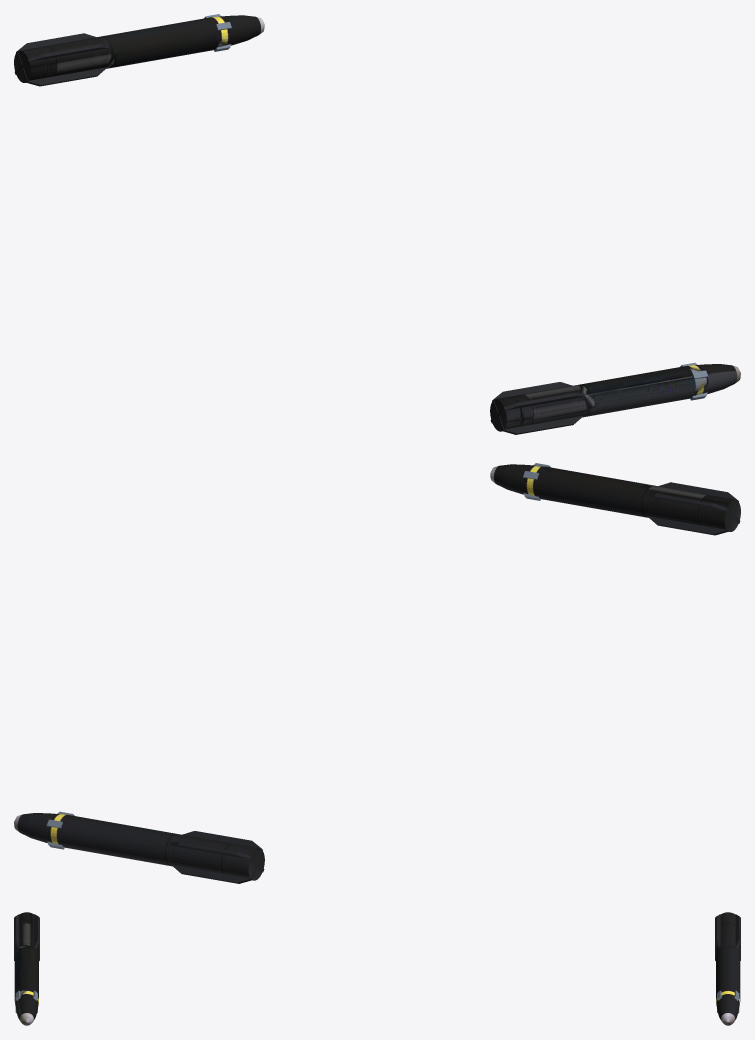
File: ac182agm11425.glb
3 views of the same model, one above another, from view 1: azimuth 30°, elevation 25°; view 2: azimuth 150°, elevation 25°; view 3: azimuth 270°, elevation 25° (orthographic). The views are drawn at different scales.
Visible parts, largest first — view 1: 円柱.005, 円柱.008; view 2: 円柱.008, 円柱.005; view 3: 円柱.005, 円柱.008.
Part boxes in pixels (x1,y1,x2,y2): 円柱.005: (14, 14, 264, 86); 円柱.008: (490, 362, 740, 434); 円柱.008: (490, 463, 740, 535); 円柱.005: (14, 811, 264, 883); 円柱.005: (715, 912, 740, 1025); 円柱.008: (14, 912, 39, 1025).
Bounding box in the file's own units: 1.93 × 0.3279 × 6.76.
3 materials, 1 textured.
